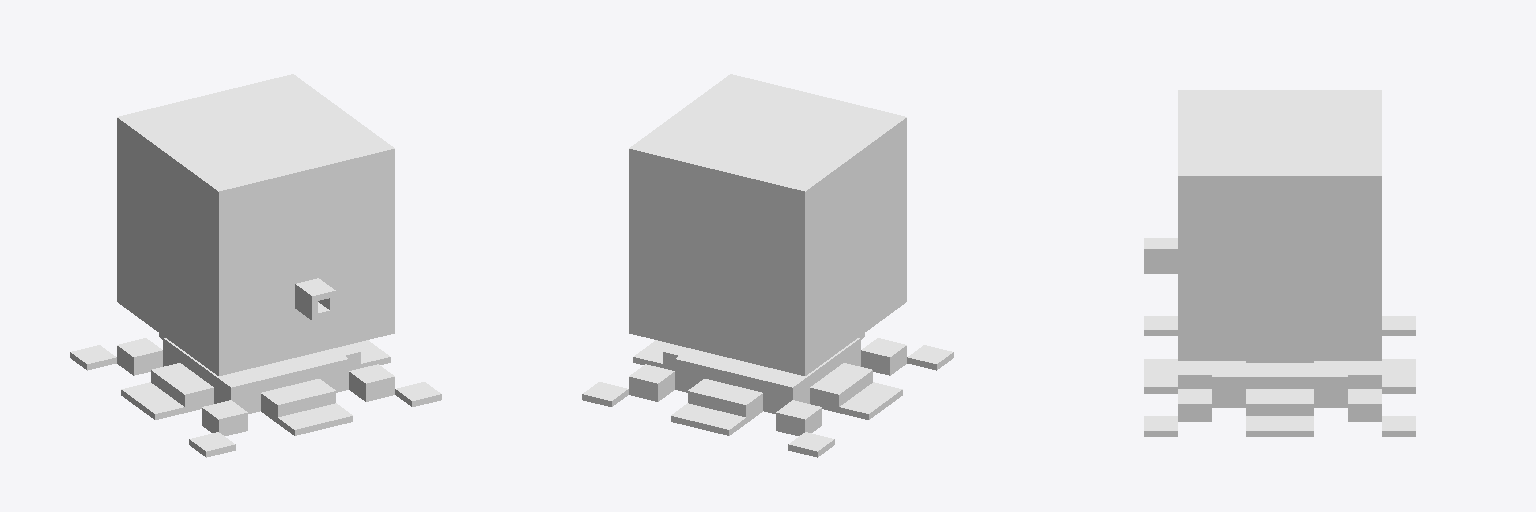
Rendered from Octopus.obj.
3 renders of one model, left to right at view 1: azimuth 30°, elevation 25°; view 2: azimuth 150°, elevation 25°; view 3: azimuth 270°, elevation 25°, orthographic.
Parts seen in each view (by area): view 1: Octopus; view 2: Octopus; view 3: Octopus.
Part boxes in pixels (left/top/right/bottom): Octopus: left=70, top=74, right=441, bottom=457; Octopus: left=582, top=74, right=953, bottom=457; Octopus: left=1144, top=90, right=1415, bottom=436.
Size of the model in its own units: 40 by 40 by 40.